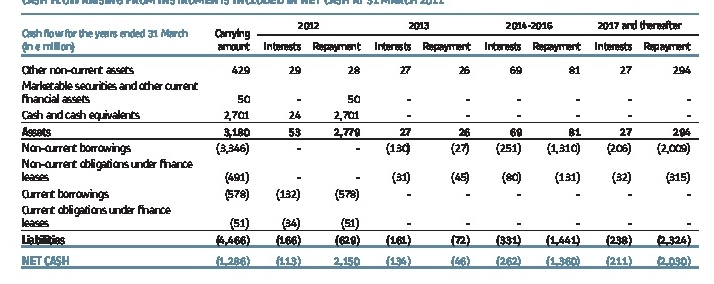table: (0, 0, 714, 284)
